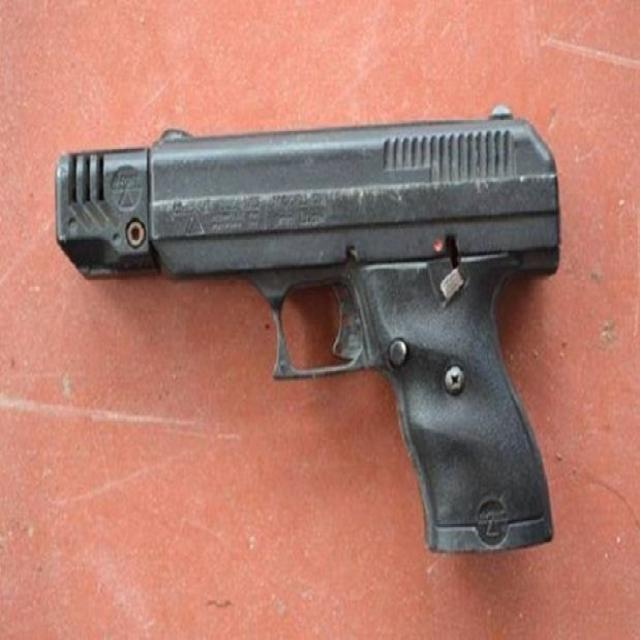pistol: (57, 102, 559, 555)
